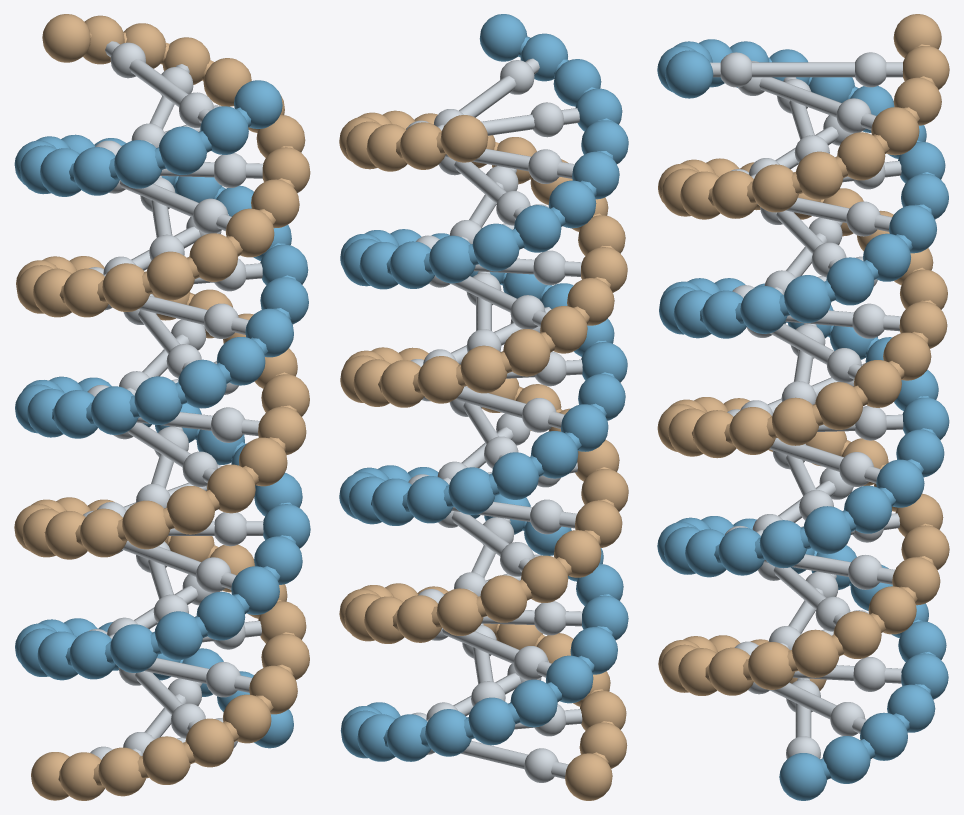
Rendered from dna.glb.
3 renders of one model, left to right at view 1: azimuth 30°, elevation 25°; view 2: azimuth 150°, elevation 25°; view 3: azimuth 270°, elevation 25°, orthographic. The views are drawn at different scales.
Visible parts, largest first — view 1: Phosphate; view 2: Phosphate; view 3: Phosphate.
Part boxes in pixels (box(x1,y1,x2,y2)): Phosphate: box(14, 14, 310, 800); Phosphate: box(339, 14, 628, 800); Phosphate: box(657, 14, 949, 800).
Bounding box in the file's own units: 1.03 × 2.77 × 1.03.
